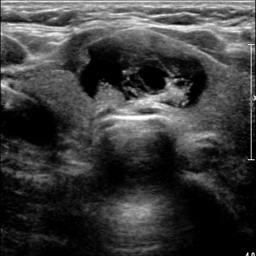mass: (67, 34, 209, 110)
